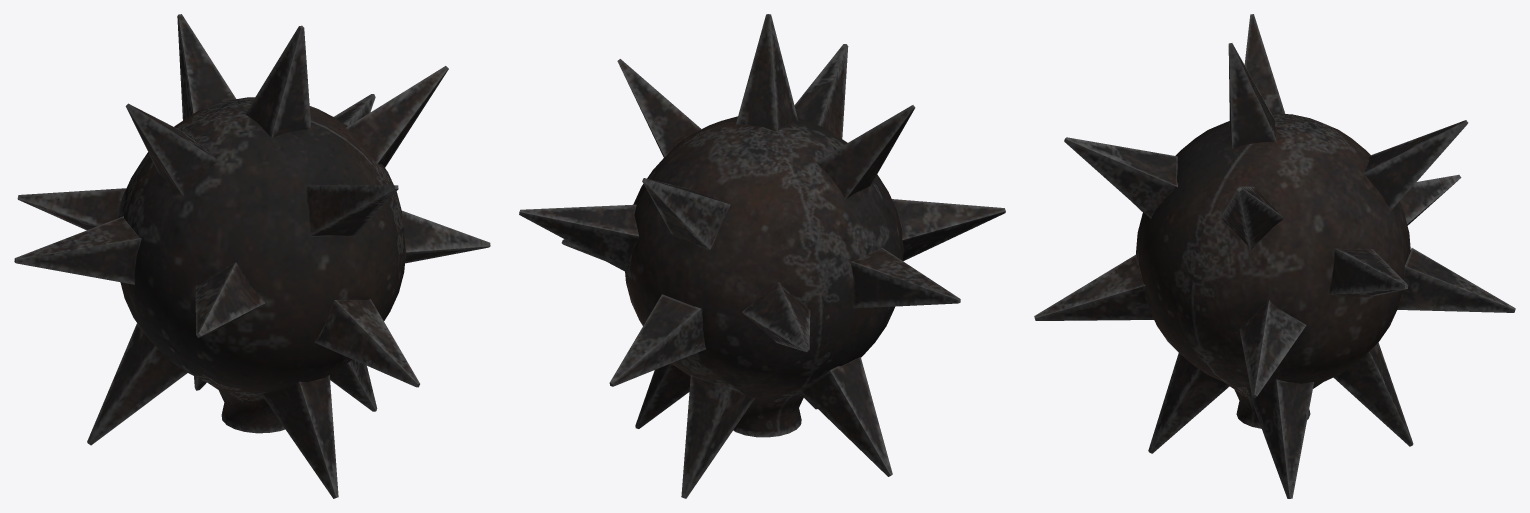
Rendered from wm_dol_goldur_2h_mace_a03_blade.fbx.
The picture shows the model from 3 angles, left to right: view 1: azimuth 30°, elevation 25°; view 2: azimuth 150°, elevation 25°; view 3: azimuth 270°, elevation 25°; orthographic projection. The views are drawn at different scales.
Visible parts, largest first — view 1: wm_dol_goldur_2h_mace_a03_blade; view 2: wm_dol_goldur_2h_mace_a03_blade; view 3: wm_dol_goldur_2h_mace_a03_blade.
Boxes of the visible parts, x1,y1,x2,y2 form: wm_dol_goldur_2h_mace_a03_blade: (14, 14, 490, 498); wm_dol_goldur_2h_mace_a03_blade: (519, 14, 1005, 498); wm_dol_goldur_2h_mace_a03_blade: (1034, 14, 1515, 498).
Size of the model in its own units: 0.2869 by 0.2863 by 0.2714.
1 material, 1 textured.
